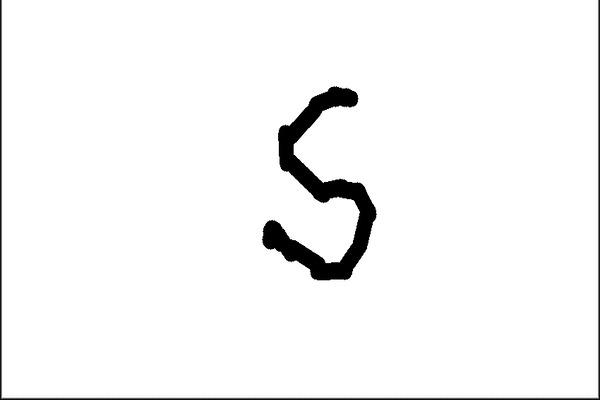S: (258, 77, 377, 286)
